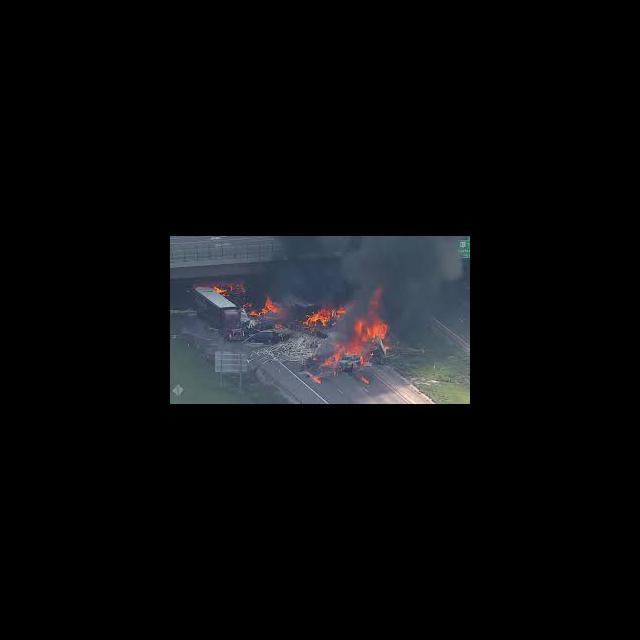Fire: (323, 344, 370, 374), (302, 299, 348, 329), (248, 298, 286, 332), (354, 313, 391, 342), (208, 282, 236, 298), (361, 376, 372, 386), (312, 375, 322, 385)
Smoke: (354, 237, 462, 308), (247, 236, 352, 297), (392, 310, 439, 348)
